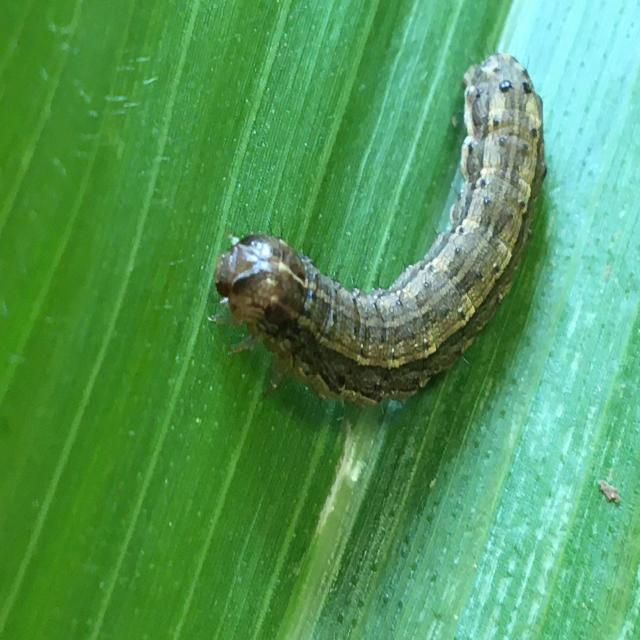armyworm: (84, 201, 442, 608)
